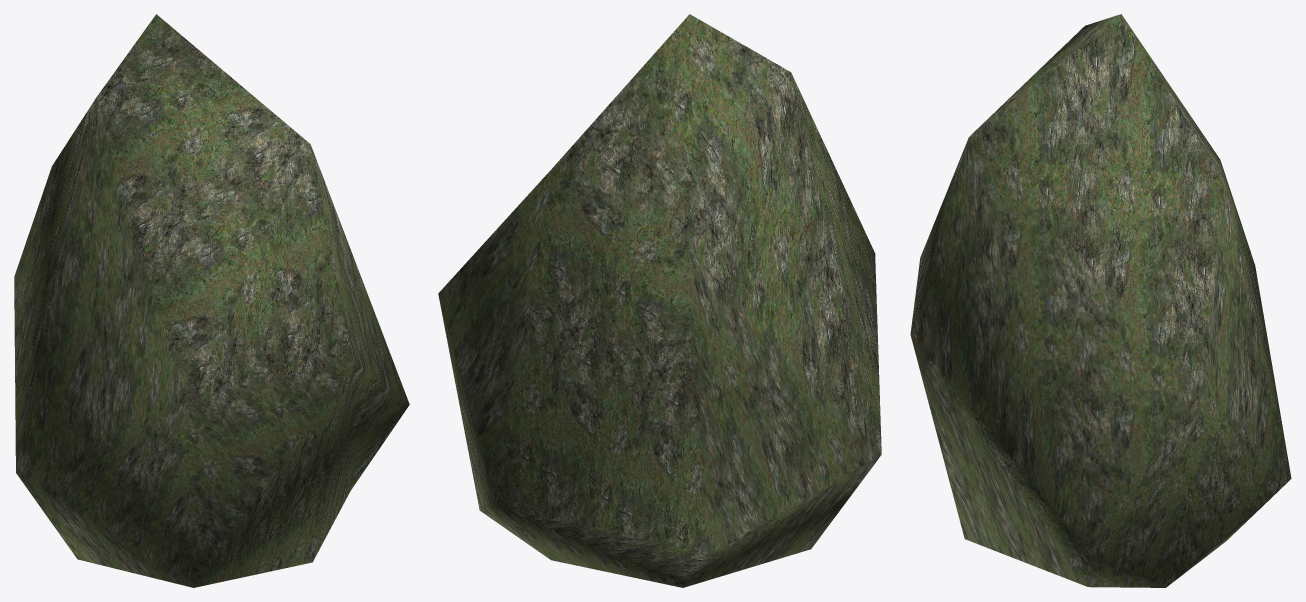
Rendered from mtns_rock_moss_a1_l2.fbx.
3 renders of one model, left to right at view 1: azimuth 30°, elevation 25°; view 2: azimuth 150°, elevation 25°; view 3: azimuth 270°, elevation 25°, orthographic. The views are drawn at different scales.
Parts seen in each view (by area): view 1: mesh_node; view 2: mesh_node; view 3: mesh_node.
Boxes of the visible parts, <box> form: mesh_node: <box>14,14,409,587</box>; mesh_node: <box>438,14,881,587</box>; mesh_node: <box>910,14,1291,587</box>.
Bounding box in the file's own units: 2.26 × 2.78 × 1.94.
